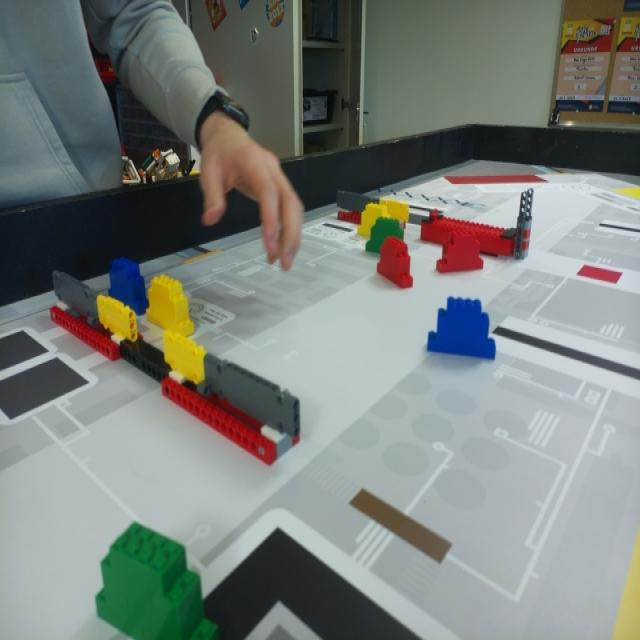blau: (430, 298, 496, 358), (108, 261, 147, 312)
gruen: (96, 516, 226, 640), (367, 220, 401, 252)
rot: (437, 228, 483, 273), (377, 238, 413, 288)
yellow: (148, 273, 194, 335), (358, 202, 382, 235)
